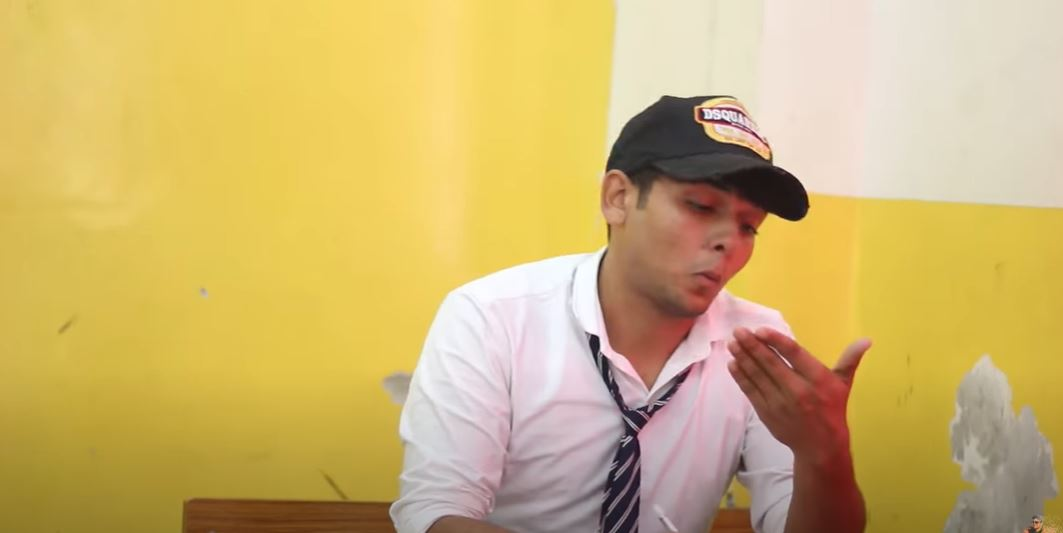chit: (697, 331, 867, 454)
student: (471, 81, 885, 533)
